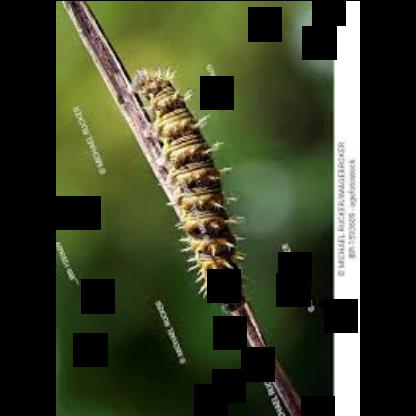oruga: (131, 64, 253, 310)
